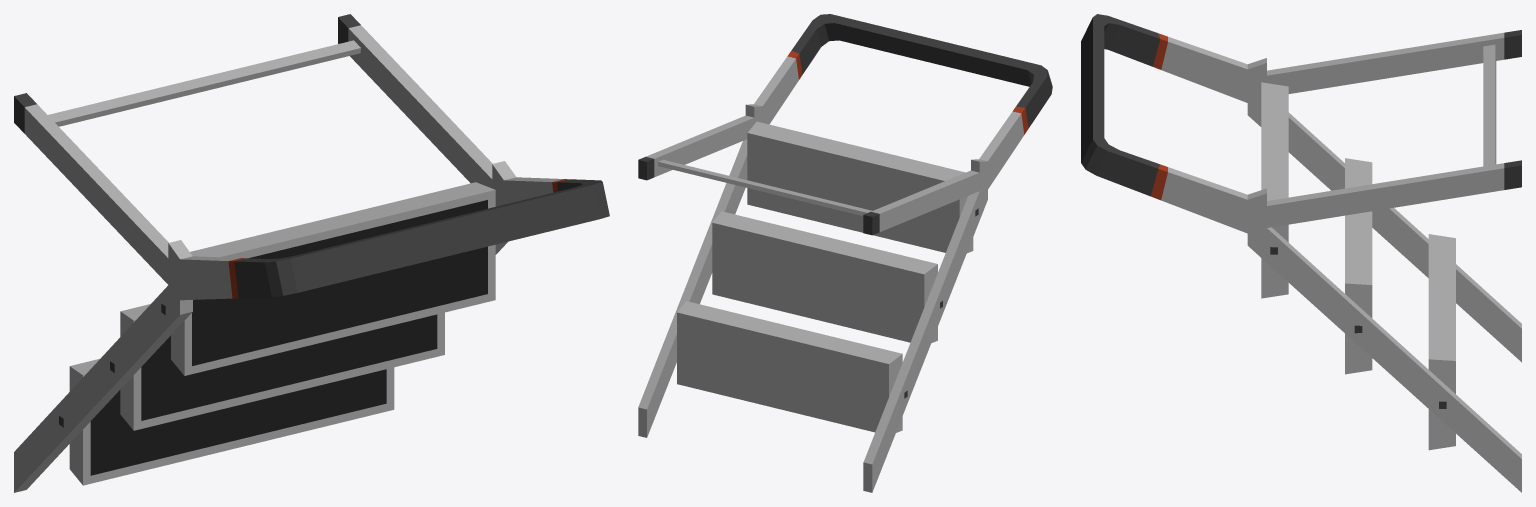
File: Ladder.obj
3 views of the same model, side by side, from view 1: azimuth 30°, elevation 25°; view 2: azimuth 150°, elevation 25°; view 3: azimuth 270°, elevation 25° (orthographic). The views are drawn at different scales.
Parts seen in each view (by area): view 1: Ladder.001; view 2: Ladder.001; view 3: Ladder.001.
Part boxes in pixels (x1,y1,x2,y2): Ladder.001: (14, 14, 609, 492); Ladder.001: (638, 14, 1052, 492); Ladder.001: (1081, 14, 1521, 492).
Size of the model in its own units: 0.692 by 0.8233 by 0.9478.
